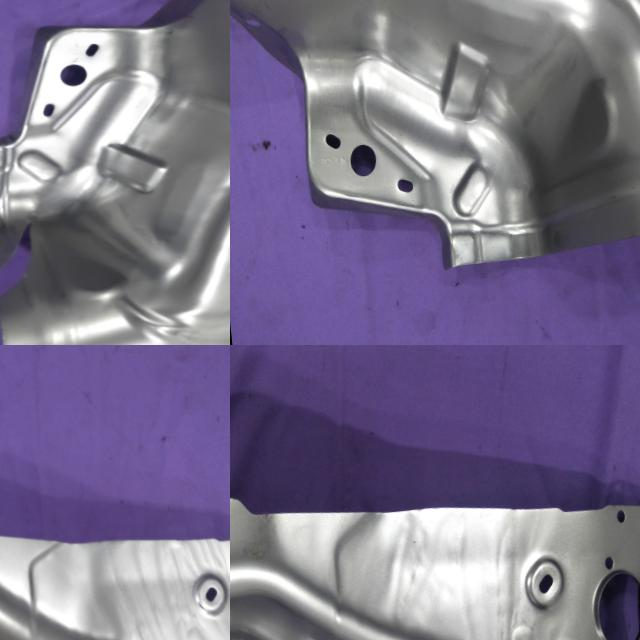Defect: (0, 206, 89, 319)
Healthy: (230, 0, 640, 296), (0, 480, 230, 640)
